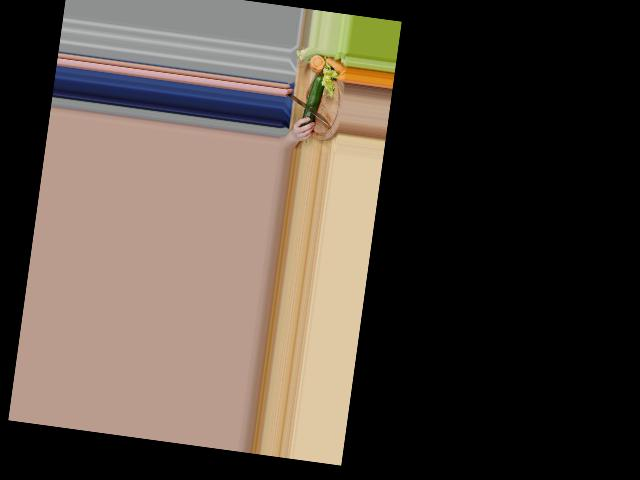cucumber: (301, 73, 325, 128)
